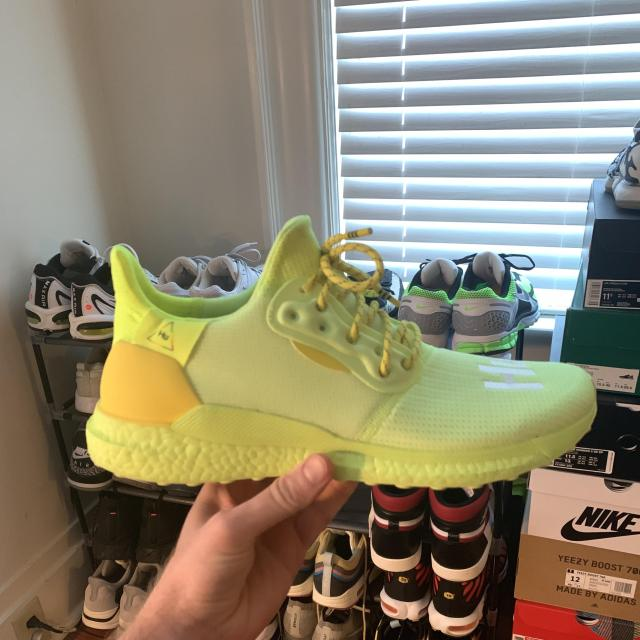shoe: (74, 197, 602, 522), (450, 249, 546, 363), (22, 231, 96, 335), (398, 249, 468, 356), (307, 519, 372, 615), (428, 488, 494, 581), (366, 482, 424, 570), (80, 552, 130, 634)
